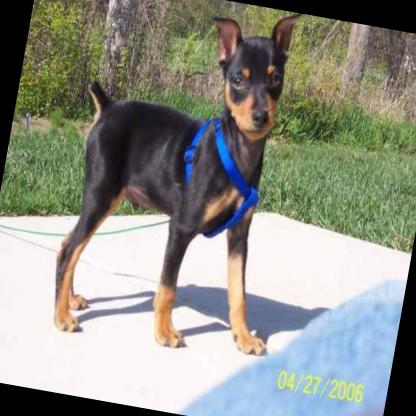miniature_pinscher: (41, 0, 326, 365)
